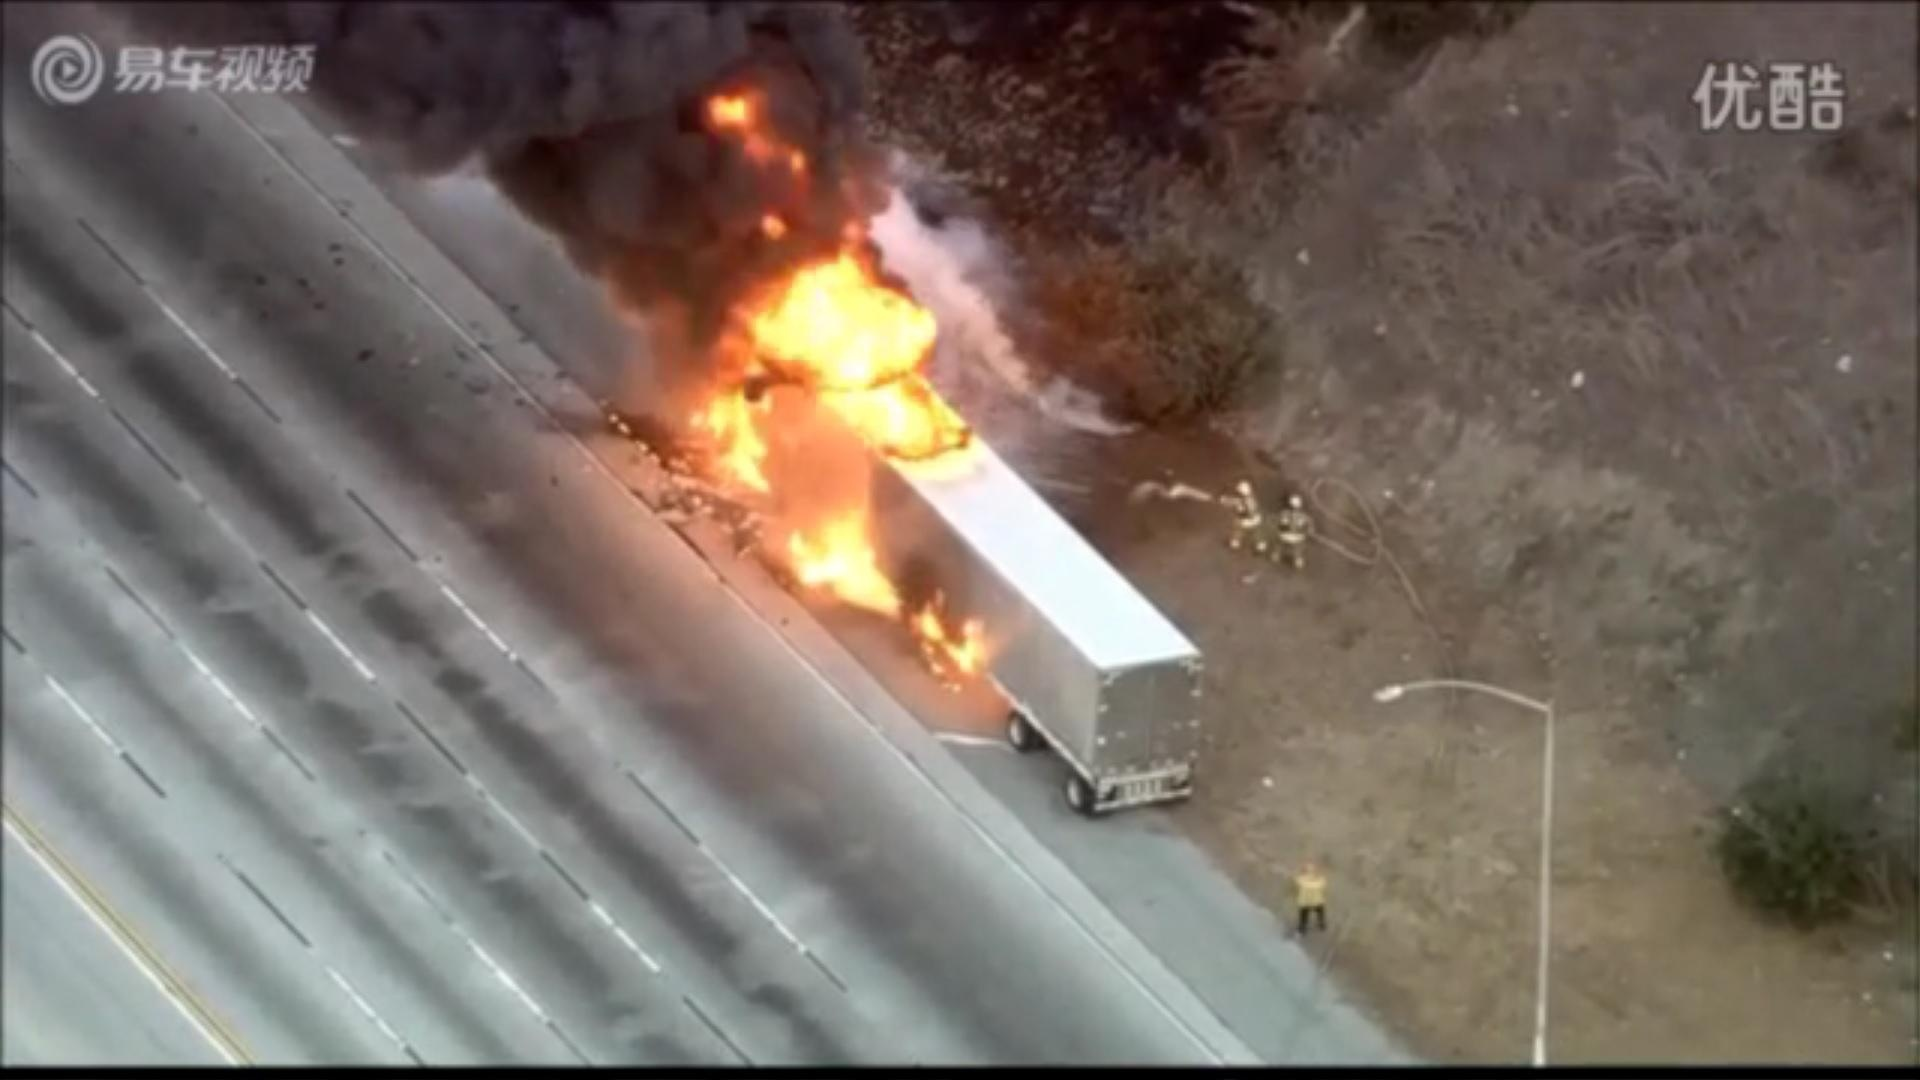fire: (700, 253, 975, 640)
